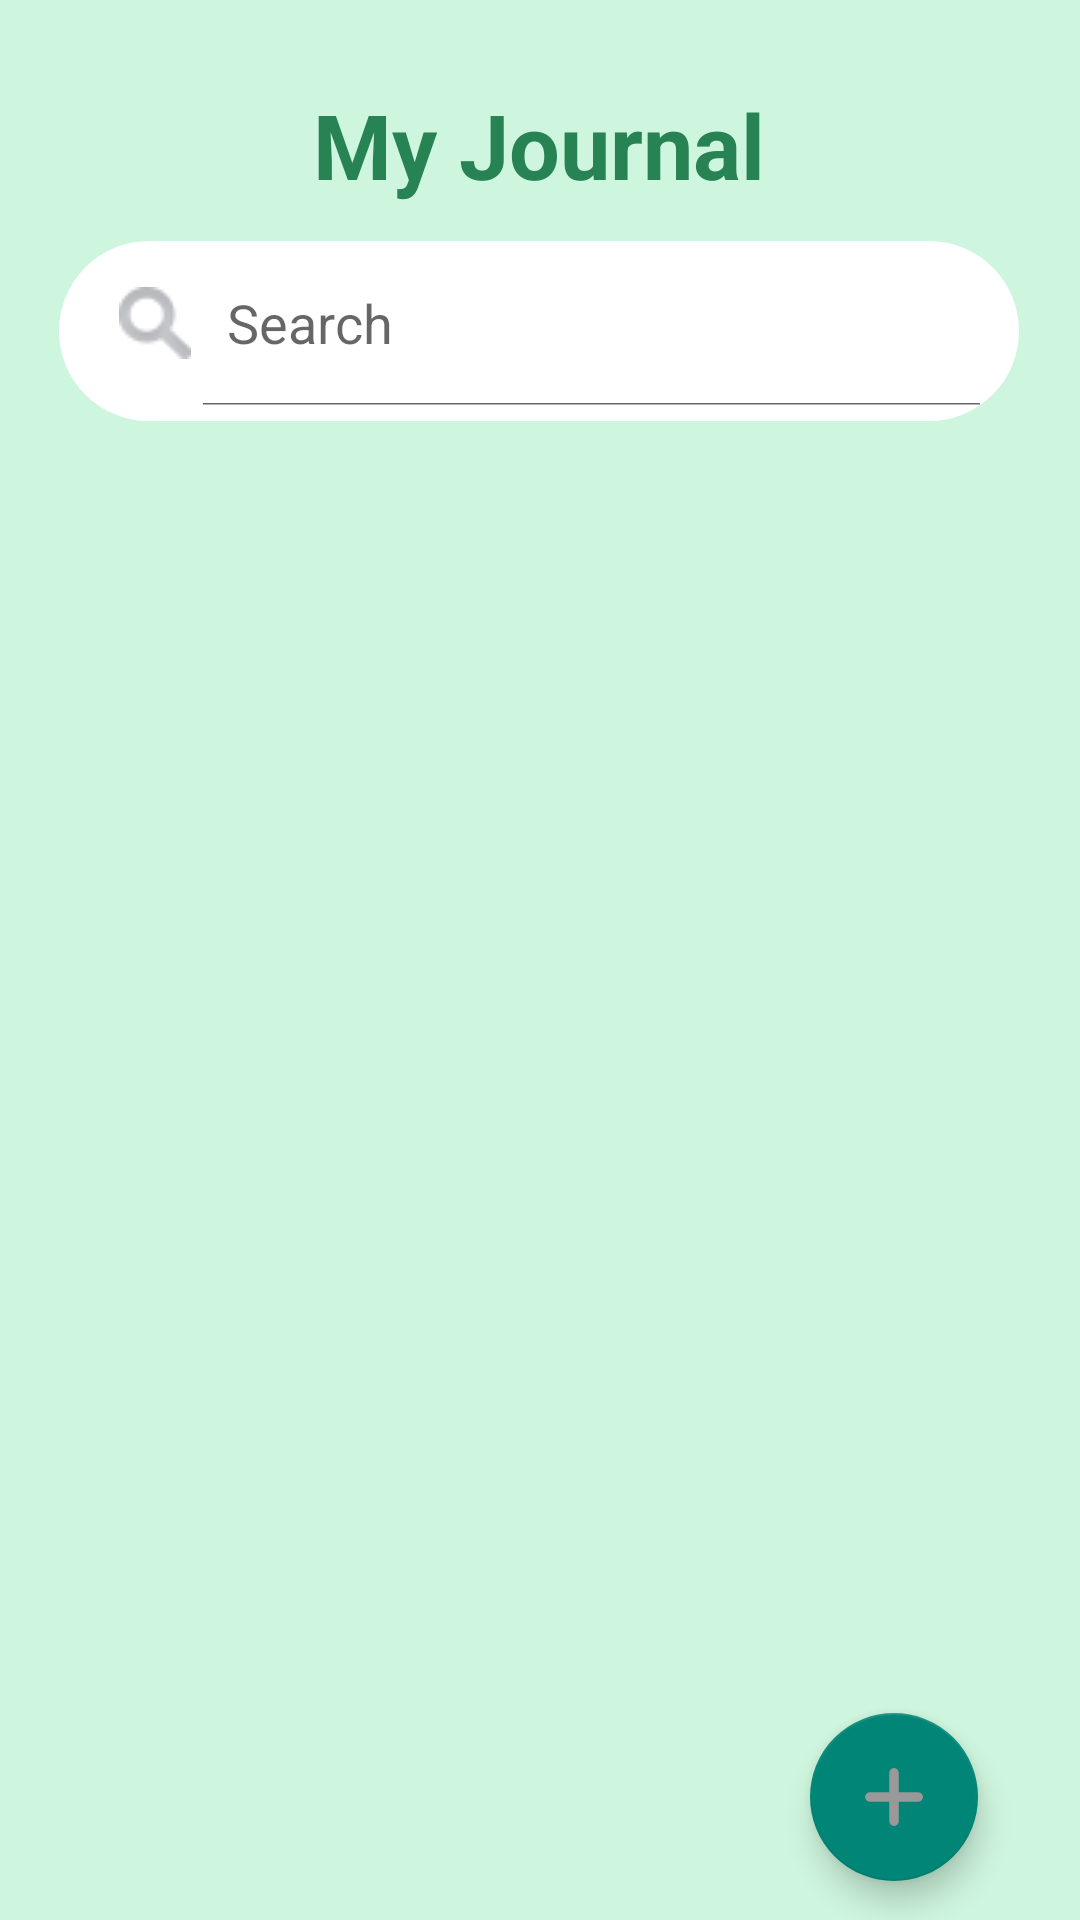

Icons on this 1080w x 1920h Android screen, each with the point to tap as [x,y]:
plus: [894,1797]
